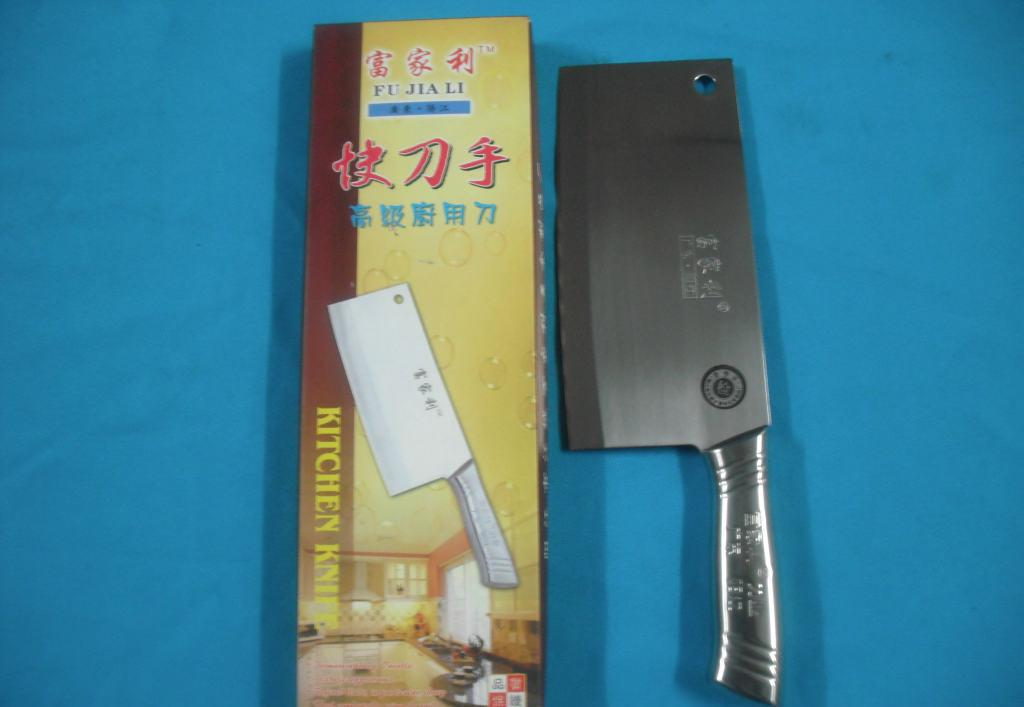knief: (554, 50, 871, 696)
